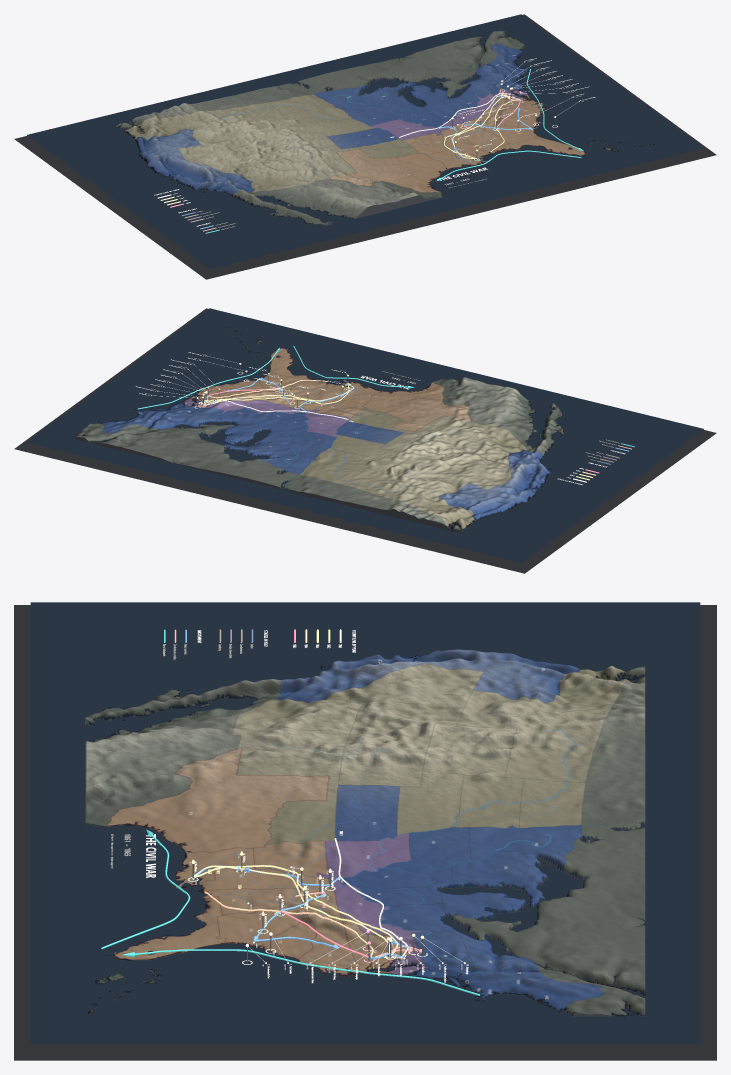
The model's file is civil-war-map.glb.
3 renders of one model, top to bottom at view 1: azimuth 30°, elevation 25°; view 2: azimuth 150°, elevation 25°; view 3: azimuth 270°, elevation 25°, orthographic. The views are drawn at different scales.
Parts seen in each view (by area): view 1: Terrain_USA, Ocean, Deck; view 2: Terrain_USA, Ocean, Deck; view 3: Terrain_USA, Ocean, Deck, Arrow_01.
Part boxes in pixels (bbox=[...]): Terrain_USA: bbox=[115, 31, 656, 226]; Ocean: bbox=[27, 14, 703, 268]; Deck: bbox=[14, 14, 716, 279]; Terrain_USA: bbox=[72, 327, 579, 533]; Ocean: bbox=[27, 308, 703, 562]; Deck: bbox=[14, 308, 716, 573]; Terrain_USA: bbox=[85, 649, 645, 1016]; Ocean: bbox=[30, 602, 700, 1043]; Deck: bbox=[14, 605, 716, 1060]; Arrow_01: bbox=[135, 949, 480, 995].
Bounding box in the file's own units: 58.6 × 2.26 × 38.2.
Materials: 28 (1 with a texture image).
